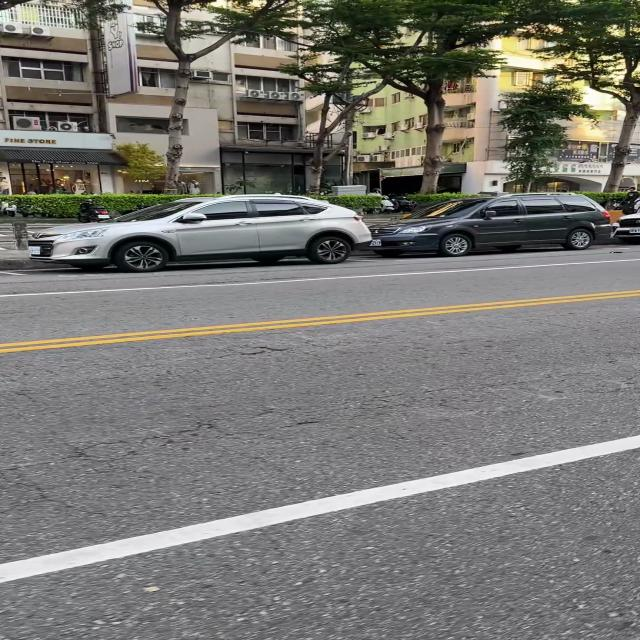car: (29, 195, 371, 272), (371, 192, 609, 256)
